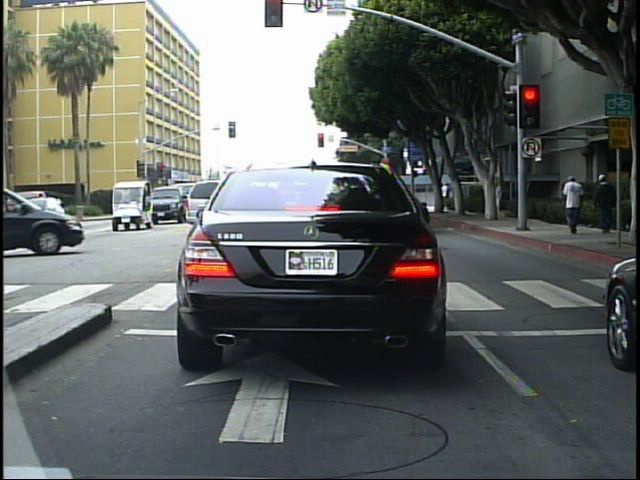person: (560, 170, 590, 237), (595, 169, 616, 237), (438, 179, 452, 213), (493, 179, 505, 218)
